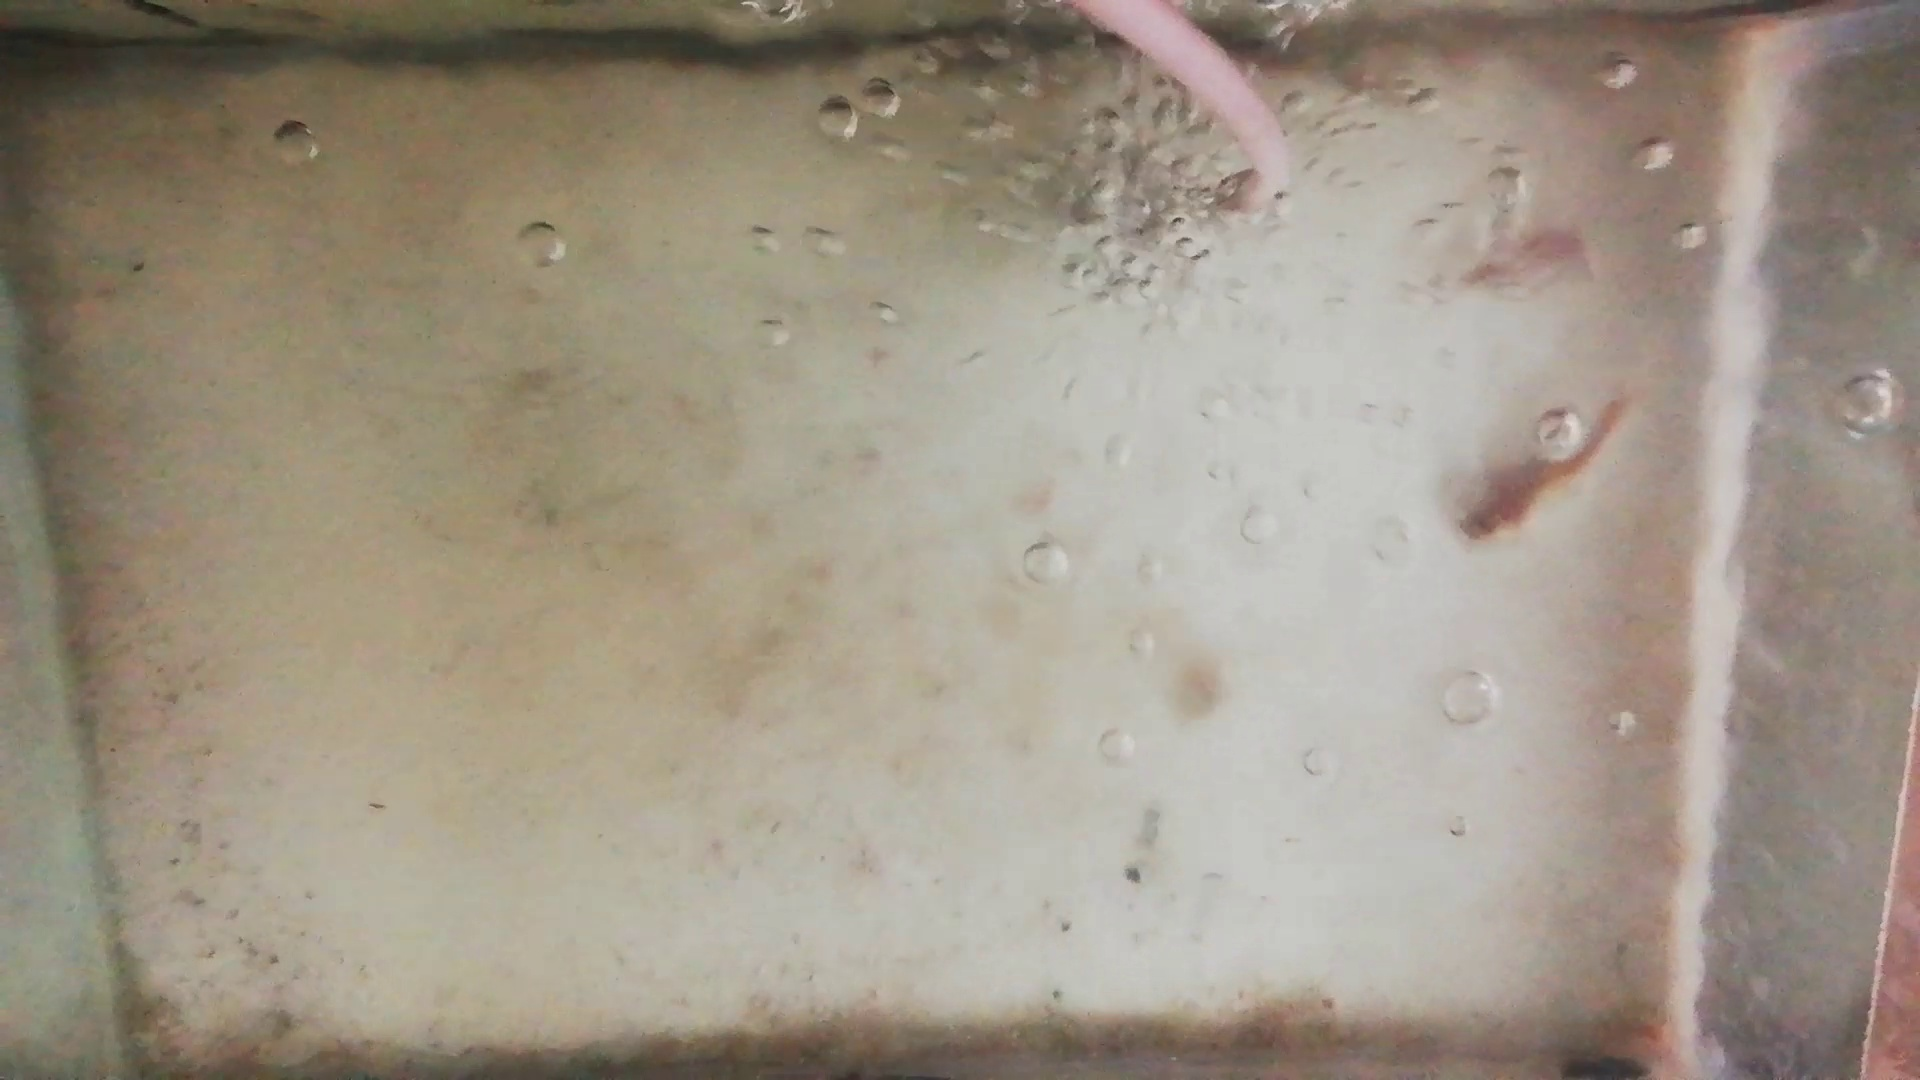fish: (1458, 392, 1629, 550), (1456, 227, 1598, 287)
